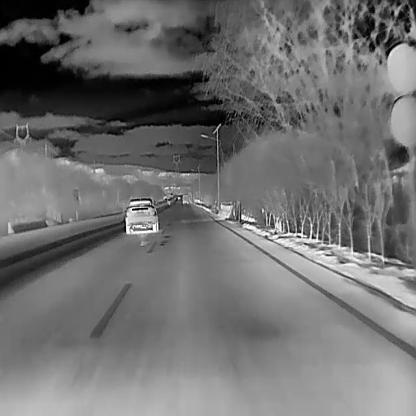bus: (182, 194, 188, 206), (169, 192, 173, 197)
car: (124, 196, 158, 234), (176, 195, 181, 200)
